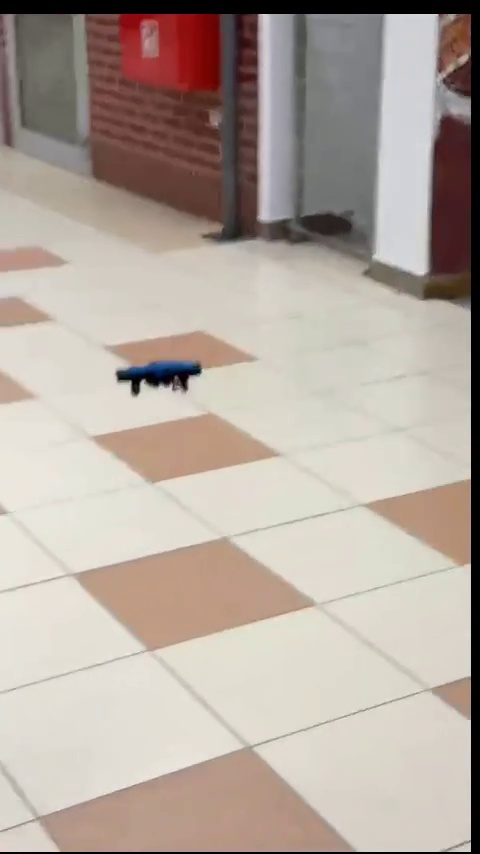drone: (114, 361, 203, 394)
